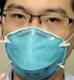with_mask: (2, 2, 74, 80)
